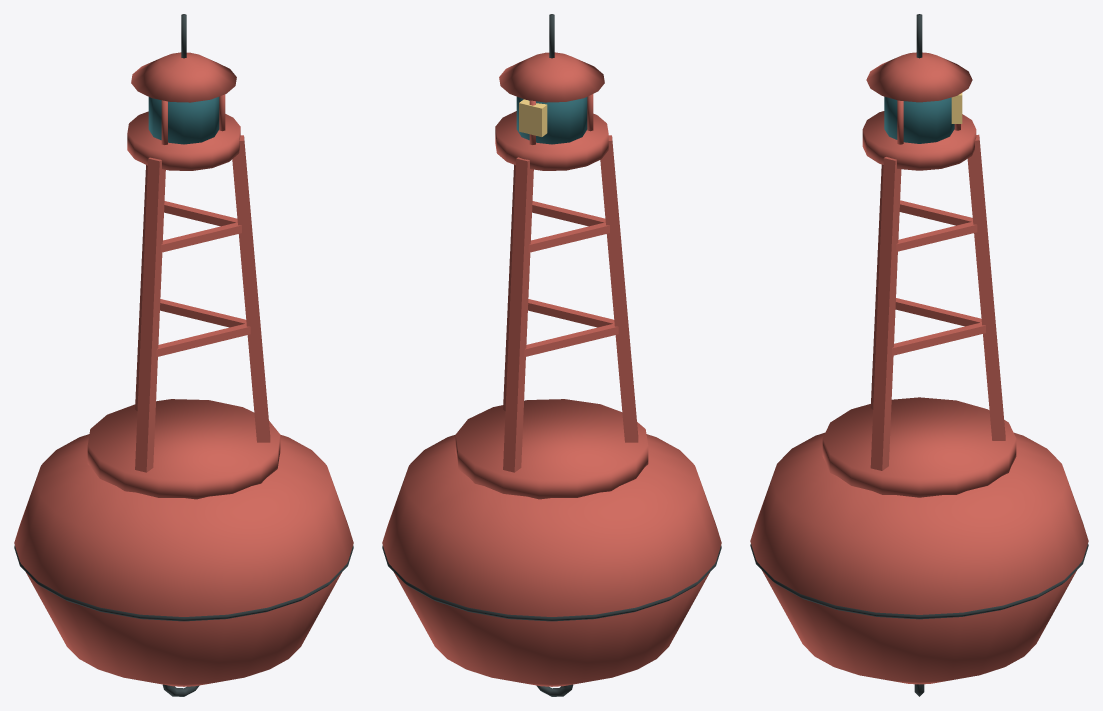
Rendered from ENV_NavigationBuoy.fbx.
3 renders of one model, left to right at view 1: azimuth 30°, elevation 25°; view 2: azimuth 150°, elevation 25°; view 3: azimuth 270°, elevation 25°, orthographic.
Parts seen in each view (by area): view 1: ENV_NavigationBuoy_Root_Visual; view 2: ENV_NavigationBuoy_Root_Visual, BuoyAmberOptic; view 3: ENV_NavigationBuoy_Root_Visual.
Boxes of the visible parts, left/top/right/bottom form: ENV_NavigationBuoy_Root_Visual: left=14, top=14, right=353, bottom=696; ENV_NavigationBuoy_Root_Visual: left=382, top=14, right=721, bottom=696; BuoyAmberOptic: left=519, top=99, right=547, bottom=136; ENV_NavigationBuoy_Root_Visual: left=750, top=14, right=1088, bottom=696.
Bounding box in the file's own units: 140 × 310 × 140.
